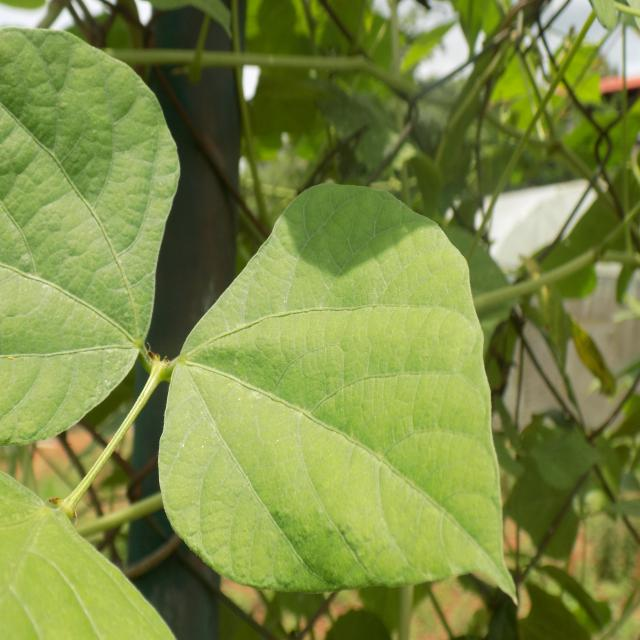Dolicos bean_healthy: (162, 177, 521, 598)
